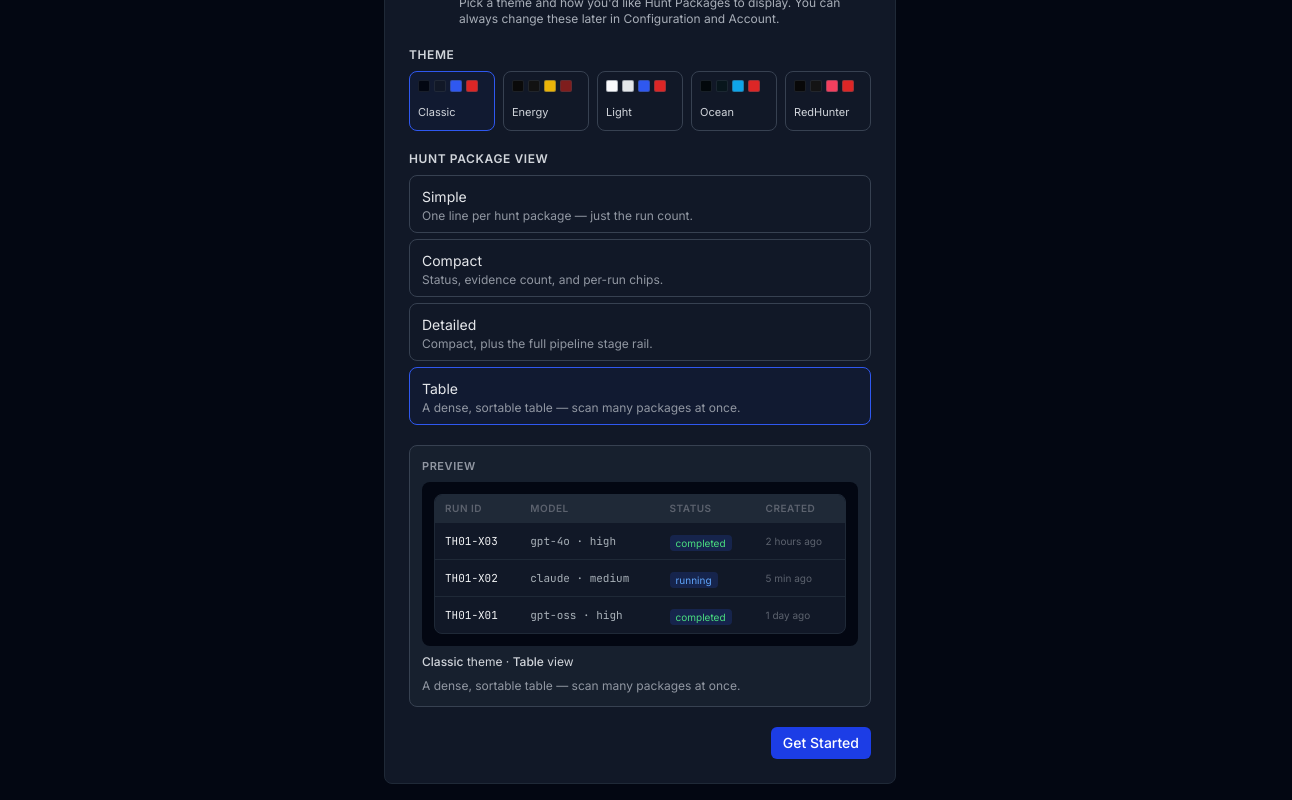
Test: Onboarding wizard gate (issue-local-038) › "Get Started" completes onboarding and reveals the shell
The image size is (1292, 800).
(page scrolled)
What coordinates should you click on to do the following:
click the button "Get Started"
I would click on:
 (821, 743)
Its box is [771, 727, 871, 759].
(page scrolled)
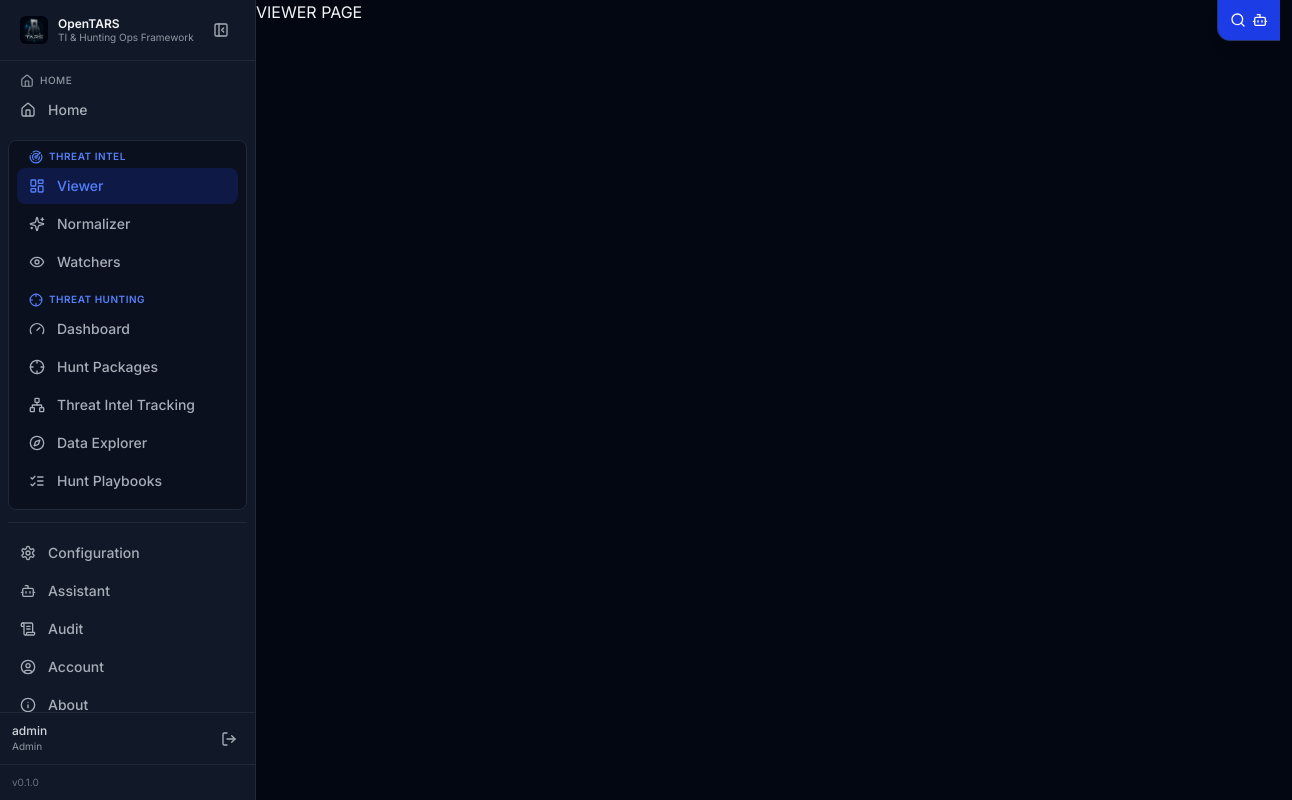
Expected: the text "VIEWER PAGE" is shown, [256, 2, 362, 22]
